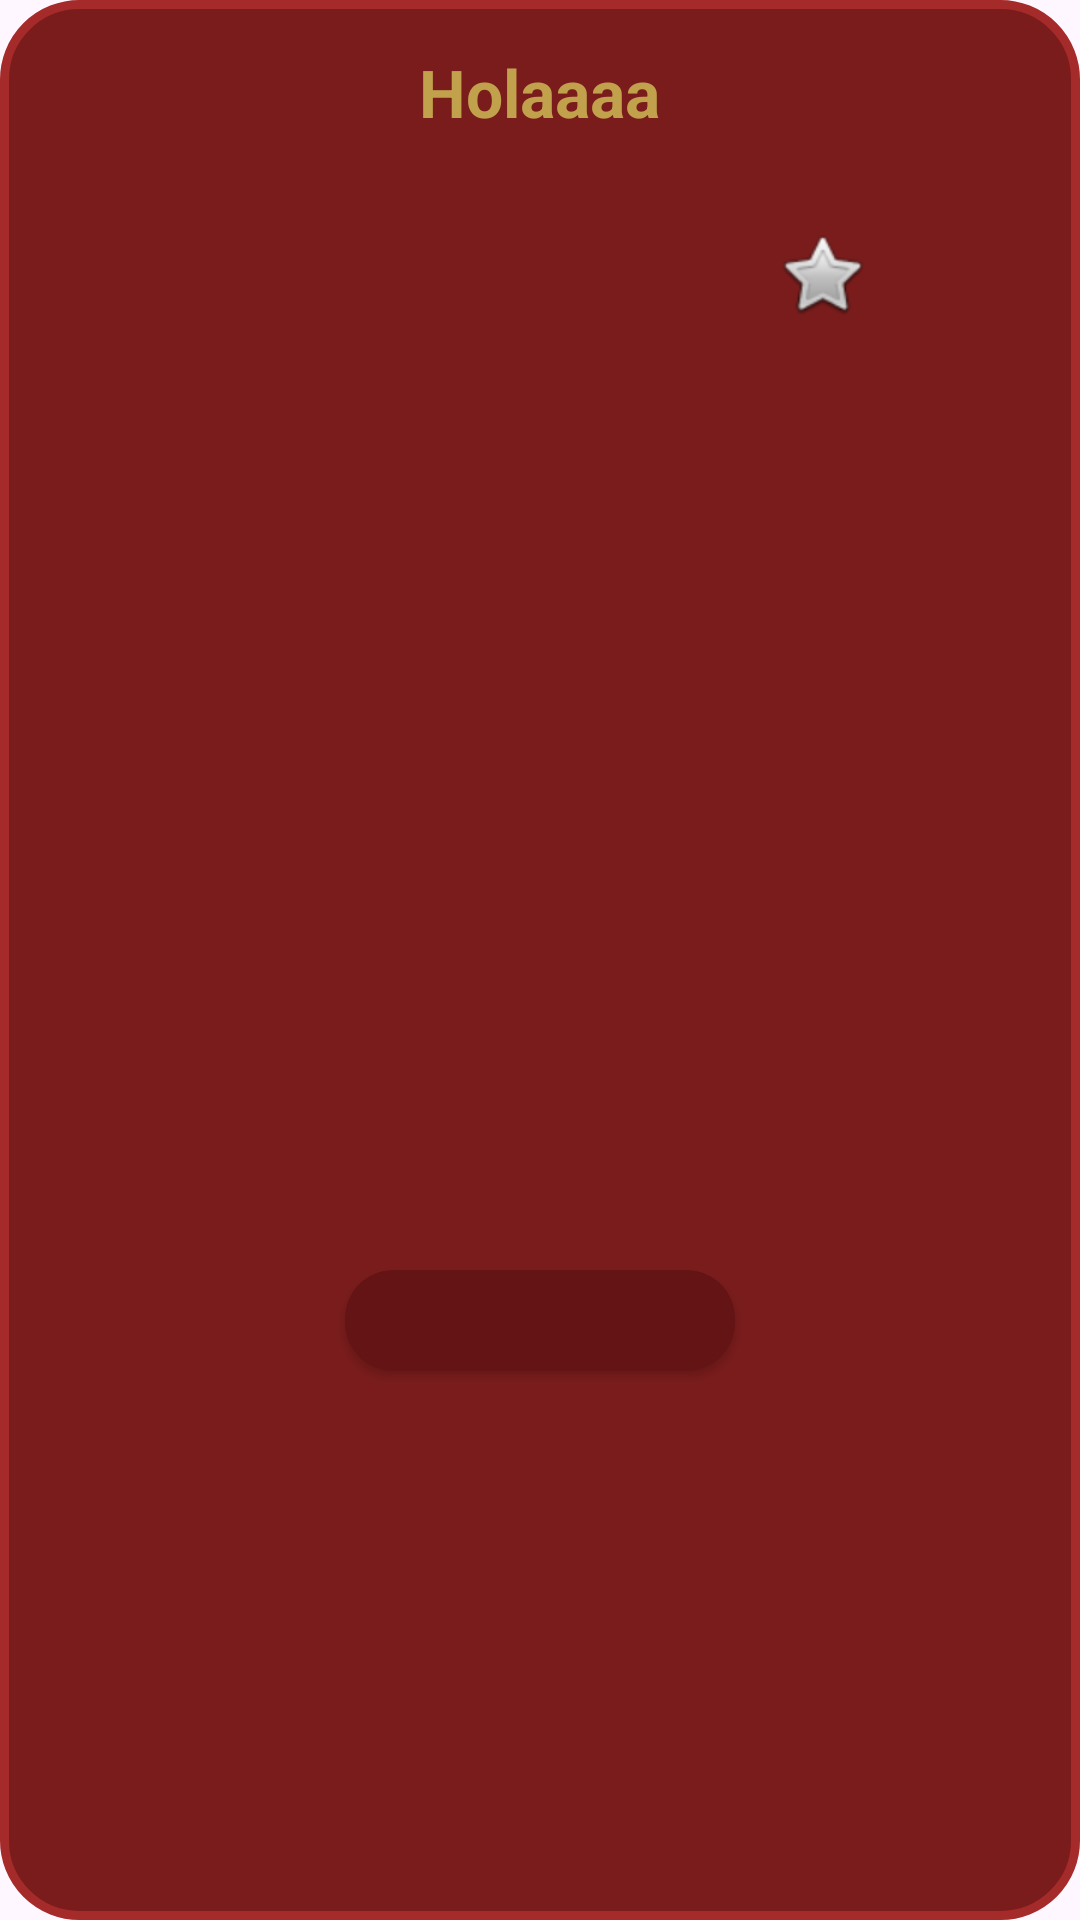

Locate icon controls on the screen. Image size 1080 × 1920, boxes as (x1, y1, x2, y2).
star off: (784, 237, 862, 313)
